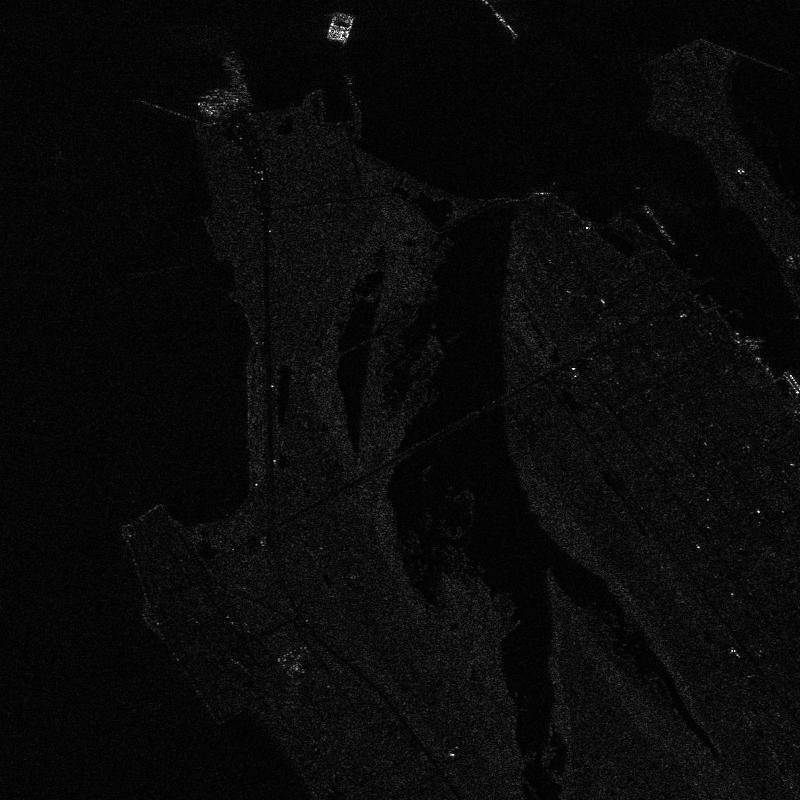ship: (495, 12, 517, 39), (783, 371, 799, 393), (198, 101, 220, 117), (658, 225, 675, 245), (644, 205, 659, 224), (481, 0, 495, 11)
